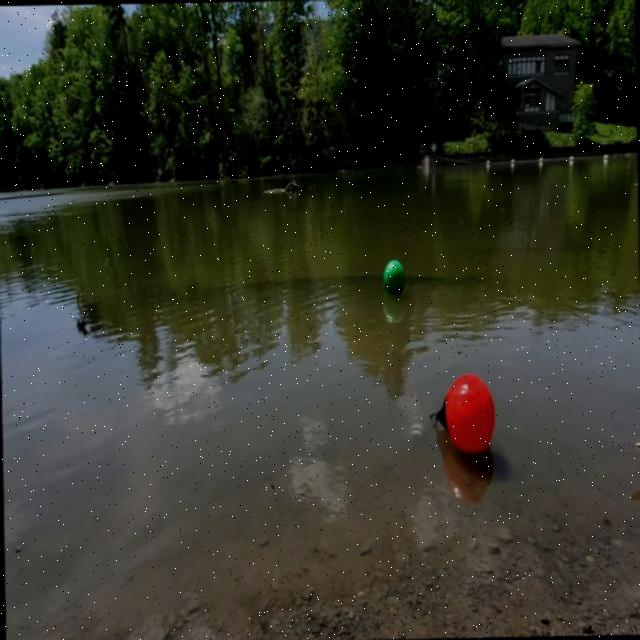buoy: (428, 371, 498, 456), (382, 255, 407, 299)
